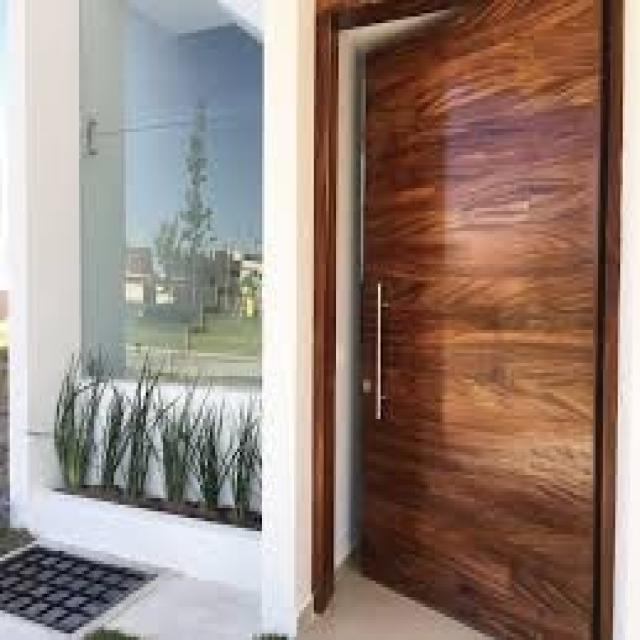door: (354, 0, 620, 640)
